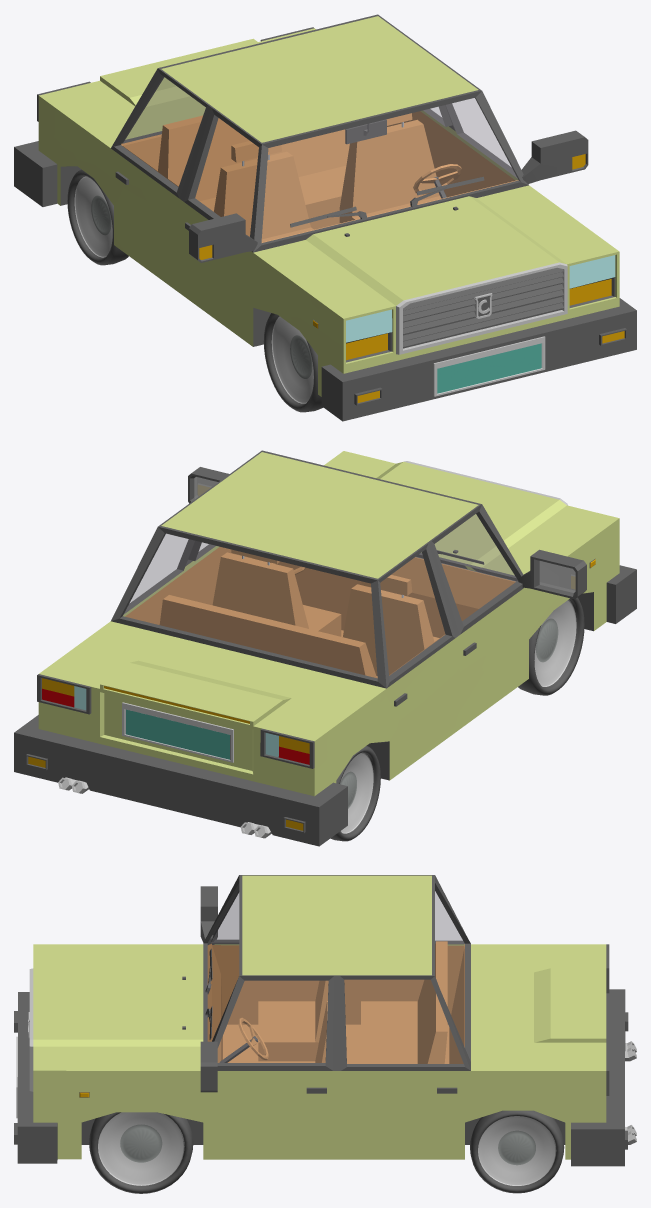
File: Player.fbx
3 views of the same model, one above another, from view 1: azimuth 30°, elevation 25°; view 2: azimuth 150°, elevation 25°; view 3: azimuth 270°, elevation 25° (orthographic). The views are drawn at different scales.
Visible parts, largest first — view 1: CarBody, WheelFrontRight, WheelBackRight; view 2: CarBody, WheelFrontRight, WheelBackRight; view 3: CarBody, WheelFrontLeft, WheelBackLeft.
Part boxes in pixels (x1=…): CarBody: x1=14, y1=14, x2=636, y2=421; WheelFrontRight: x1=263, y1=313, x2=323, y2=412; WheelBackRight: x1=67, y1=169, x2=128, y2=265; CarBody: x1=14, y1=450, x2=636, y2=846; WheelFrontRight: x1=518, y1=597, x2=584, y2=695; WheelBackRight: x1=330, y1=746, x2=380, y2=841; CarBody: x1=14, y1=875, x2=636, y2=1166; WheelFrontLeft: x1=89, y1=1112, x2=193, y2=1193; WheelBackLeft: x1=470, y1=1110, x2=564, y2=1193.
Size of the model in its own units: 15287 by 8307 by 22512.
